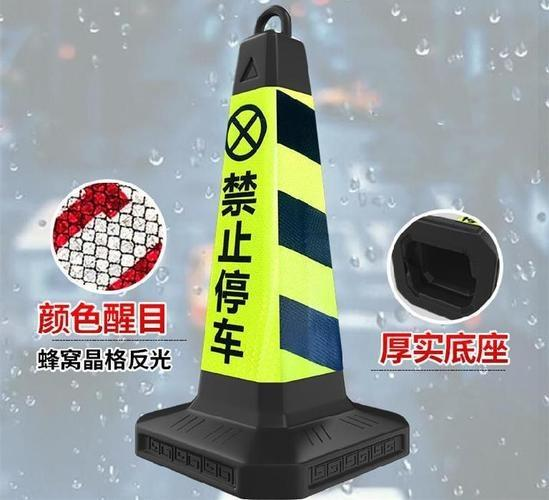cone_barrel: (153, 23, 376, 474)
